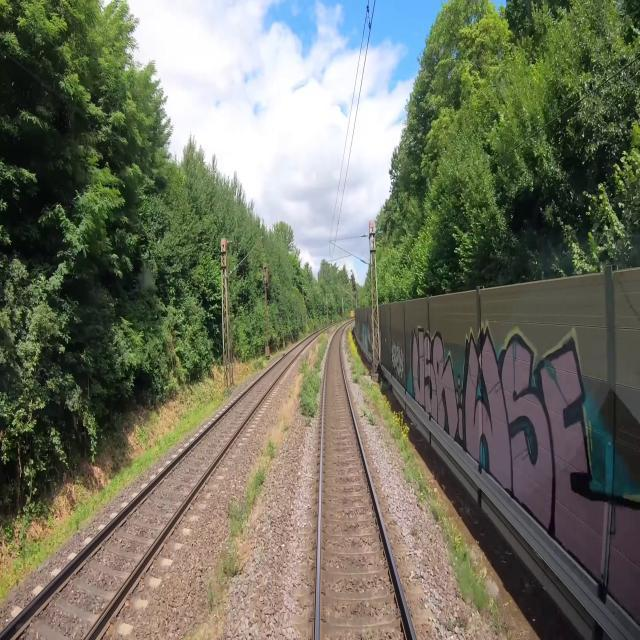Plant: (190, 467, 268, 639), (296, 322, 343, 429), (342, 327, 377, 426), (447, 548, 482, 613), (446, 612, 468, 633), (259, 438, 277, 460), (410, 525, 419, 540), (282, 423, 290, 435)
